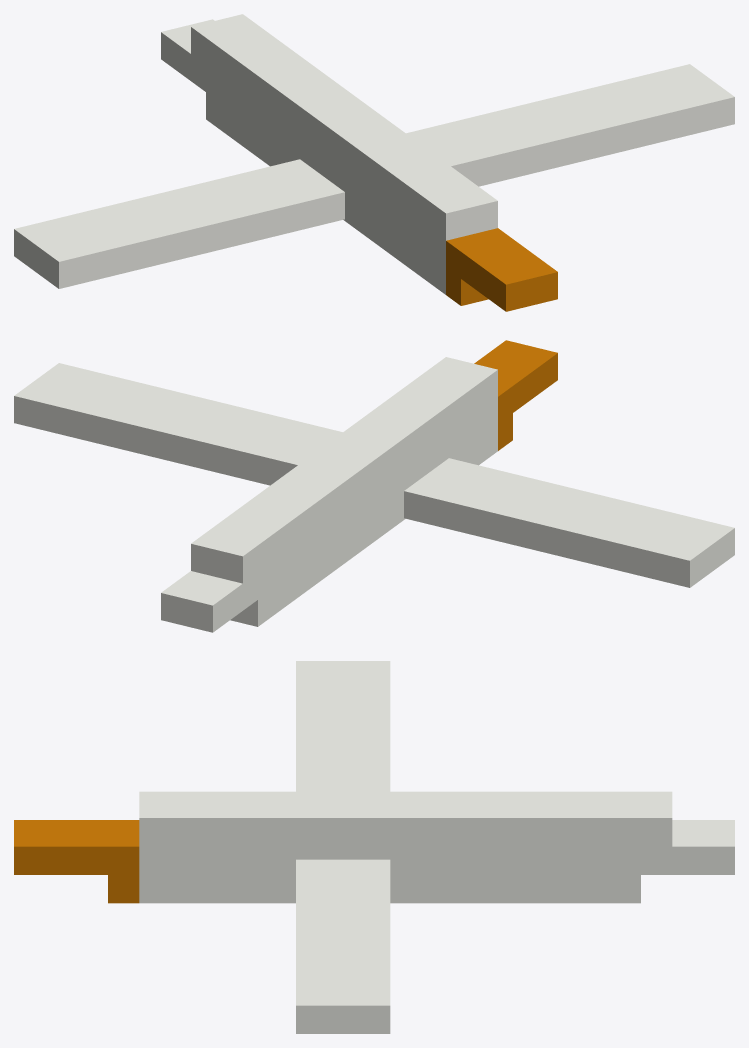
Rendered from SM_Sea_Gull_A1_ML.obj.
3 renders of one model, top to bottom at view 1: azimuth 30°, elevation 25°; view 2: azimuth 150°, elevation 25°; view 3: azimuth 270°, elevation 25°, orthographic. The views are drawn at different scales.
Bounding box in the file's own units: 2.6 × 0.3 × 2.3.
1 material, 1 textured.
